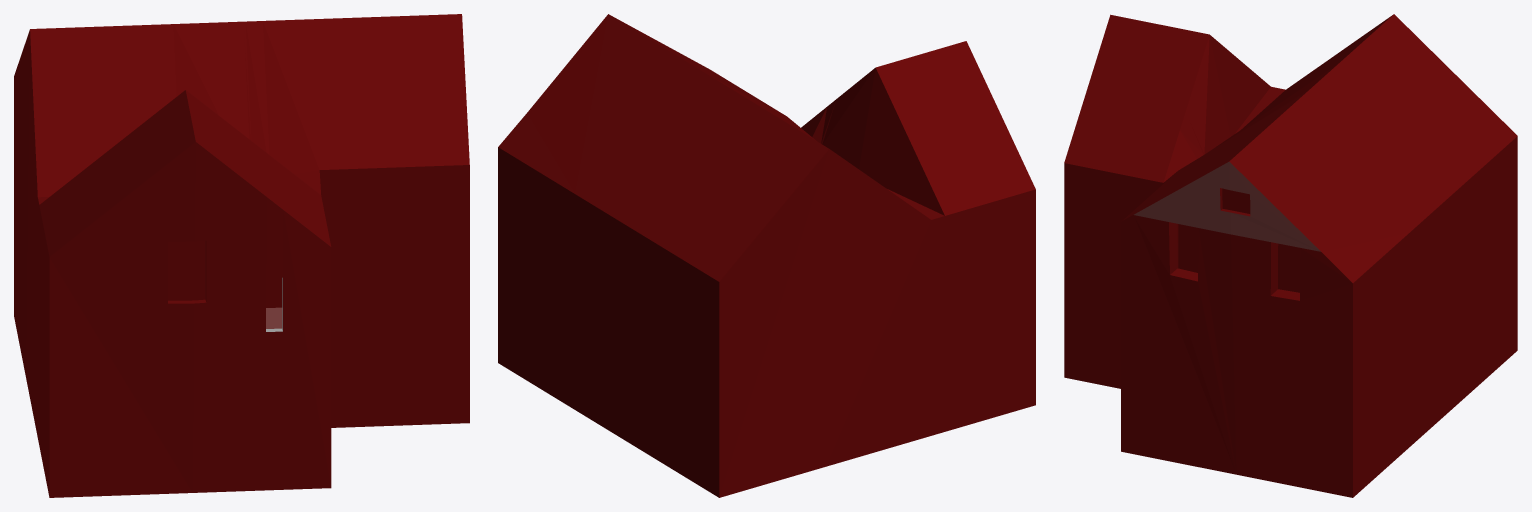
File: Lighthouse House.fbx
3 renders of one model, left to right at view 1: azimuth 30°, elevation 25°; view 2: azimuth 150°, elevation 25°; view 3: azimuth 270°, elevation 25°, orthographic. The views are drawn at different scales.
Visible parts, largest first — view 1: pCube11; view 2: pCube11; view 3: pCube11.
Part boxes in pixels (x1,y1,x2,y2): pCube11: (14,14,469,497); pCube11: (498,14,1035,497); pCube11: (1064,14,1517,497).
Bounding box in the file's own units: 13.1 × 8.89 × 11.59.
